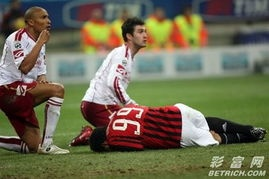falling: (77, 98, 267, 153)
